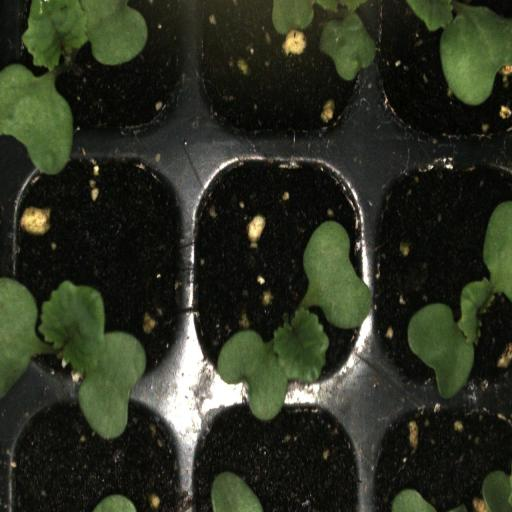Folha: (0, 276, 146, 441), (406, 0, 512, 106), (271, 0, 376, 81), (211, 471, 263, 512)
Germinacao: (10, 140, 193, 390), (191, 143, 368, 394), (368, 143, 512, 396), (10, 0, 192, 148)
